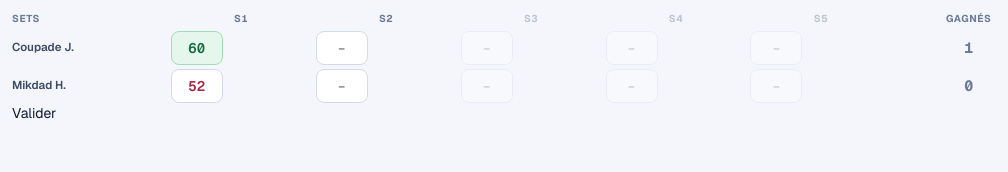
saisie d'un match en 3 sets gagnants à 60 › deux joueurs à 60 : erreur signalée (bordure et message), distincte d'une défaite
Type "60" into the number field named "Set 2, Coupade Jules" at (342, 48), box 316,30 -> 368,64
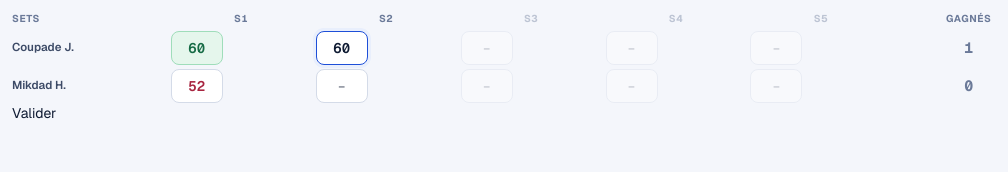
Type "60" into the number field named "Set 2, Mikdad Hakim" at (342, 86), box 316,68 -> 368,102
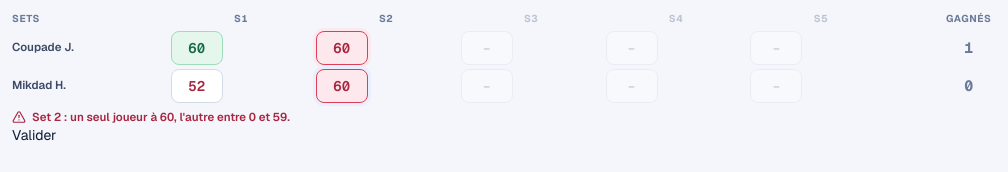
Expected: the number field named "Set 3, Coupade Jules" is disabled, 461,30 -> 513,64
Expected: the message reads "Set 2 : un seul joueur à 60, l'autre entre 0 et 59.", 32,108 -> 290,124
